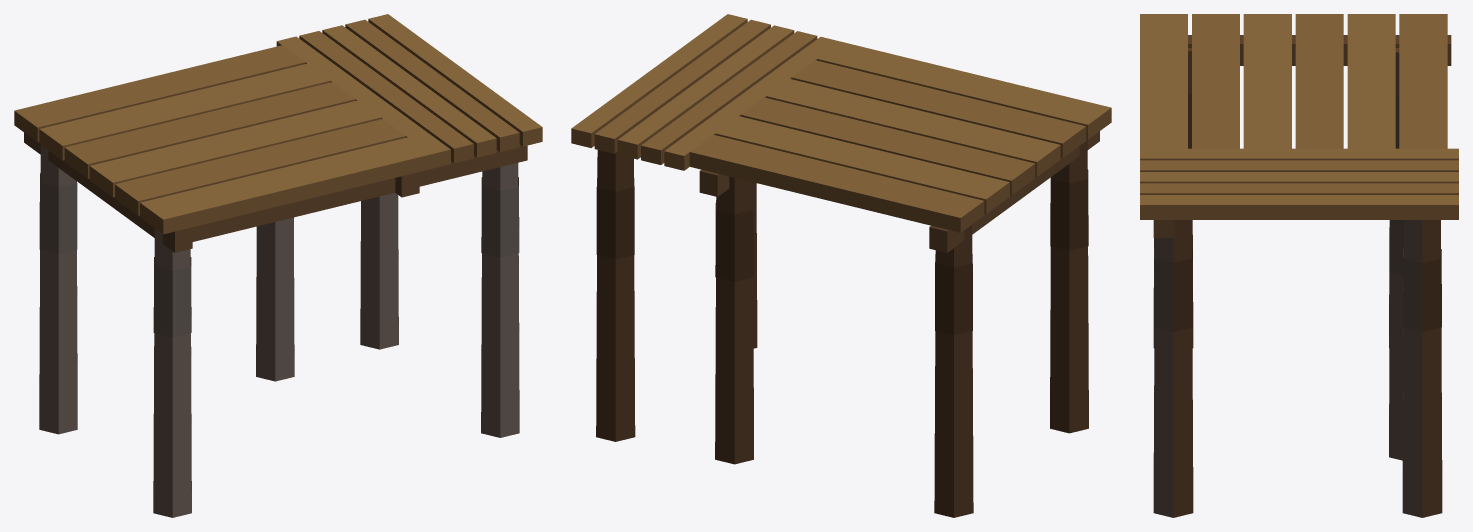
The model's file is pier_corner.glb.
3 renders of one model, left to right at view 1: azimuth 30°, elevation 25°; view 2: azimuth 150°, elevation 25°; view 3: azimuth 270°, elevation 25°, orthographic. The views are drawn at different scales.
Parts seen in each view (by area): view 1: pier_corner; view 2: pier_corner; view 3: pier_corner.
Boxes of the visible parts, bbox=[...] form: pier_corner: bbox=[14, 14, 542, 517]; pier_corner: bbox=[571, 14, 1111, 517]; pier_corner: bbox=[1140, 14, 1458, 517].
Size of the model in its own units: 2.97 by 2.3 by 2.1.
